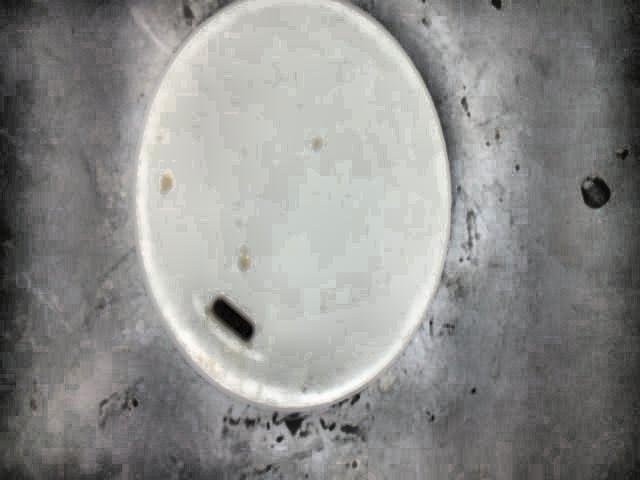Paper: (133, 0, 453, 415)
